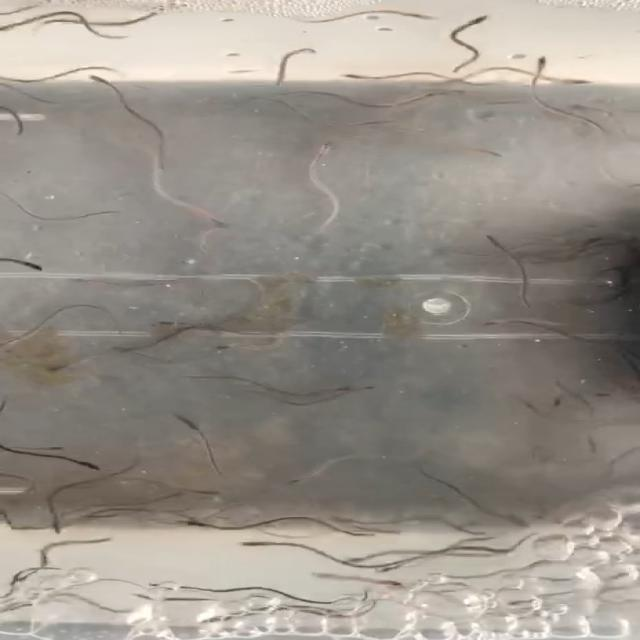active_glass_eel: (366, 113, 418, 142), (137, 315, 205, 334), (302, 130, 350, 154), (472, 144, 516, 167), (170, 515, 221, 534), (14, 259, 69, 276), (181, 479, 227, 499), (191, 214, 235, 234), (270, 470, 316, 488), (31, 436, 72, 456), (76, 68, 111, 91), (417, 87, 463, 103), (32, 520, 78, 536), (40, 363, 80, 378), (221, 531, 253, 549), (403, 10, 438, 26), (464, 12, 503, 26), (327, 512, 361, 527), (376, 574, 404, 592), (478, 225, 505, 243), (336, 66, 362, 84), (483, 313, 509, 331), (564, 76, 589, 94), (327, 379, 354, 395), (526, 51, 554, 65), (343, 554, 373, 567), (81, 462, 109, 475), (357, 383, 381, 397), (571, 101, 592, 116)
